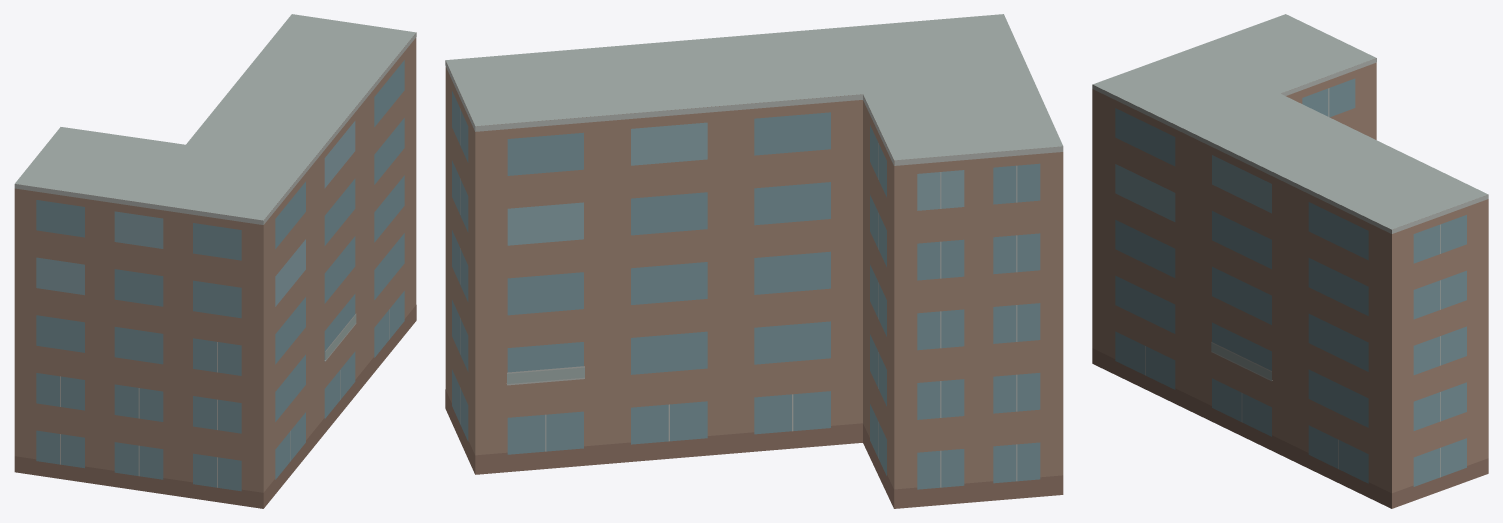
File: survey-upis-32629683.glb
3 renders of one model, left to right at view 1: azimuth 30°, elevation 25°; view 2: azimuth 150°, elevation 25°; view 3: azimuth 270°, elevation 25°, orthographic. The views are drawn at different scales.
Visible parts, largest first — view 1: survey-upis-32629683.tmp; view 2: survey-upis-32629683.tmp; view 3: survey-upis-32629683.tmp.
Part boxes in pixels (left/top/right/bottom): survey-upis-32629683.tmp: left=14, top=14, right=416, bottom=508; survey-upis-32629683.tmp: left=445, top=14, right=1063, bottom=508; survey-upis-32629683.tmp: left=1092, top=14, right=1488, bottom=508.
Size of the model in its own units: 25.27 by 15.25 by 19.61.
